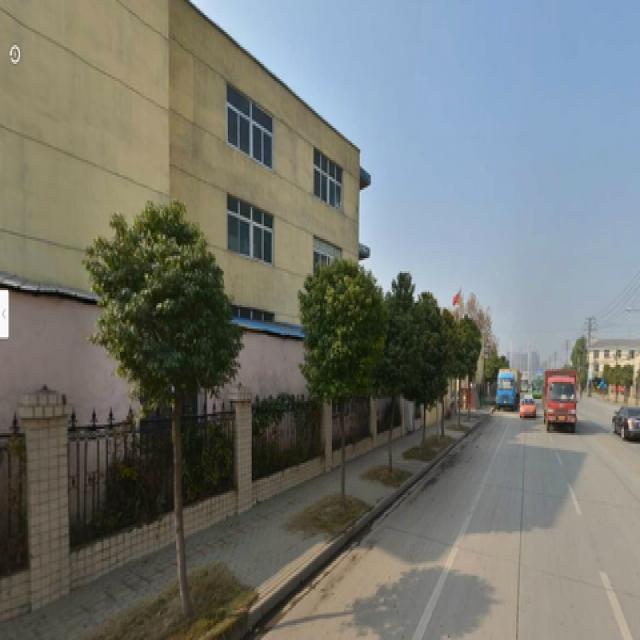cinn: (115, 209, 222, 568), (311, 265, 356, 499), (376, 271, 411, 474), (413, 296, 438, 456)
